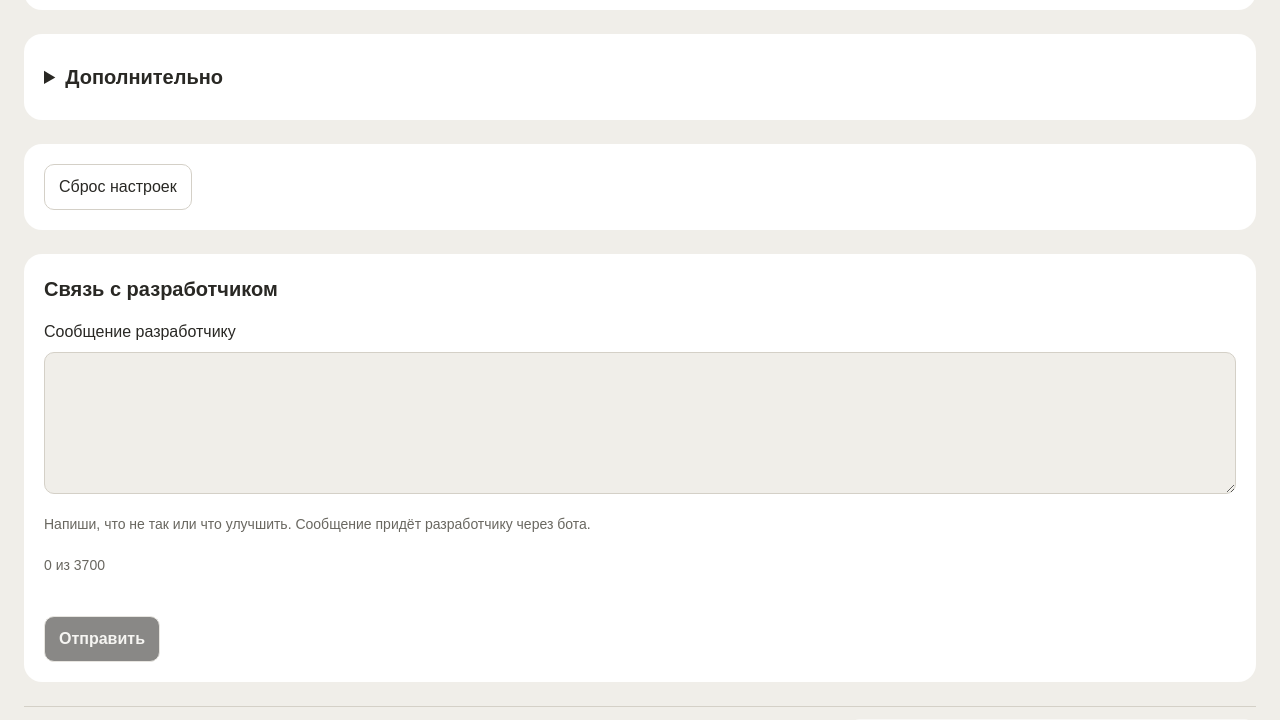
the message to the developer in settings › keeps the text on a lost reply and confirms it on retry without a second message
(page scrolled)
Type "Das Wort ist falsch geschrieben" into the text box labelled "Сообщение разработчику" at (640, 423), box [44, 352, 1236, 494]
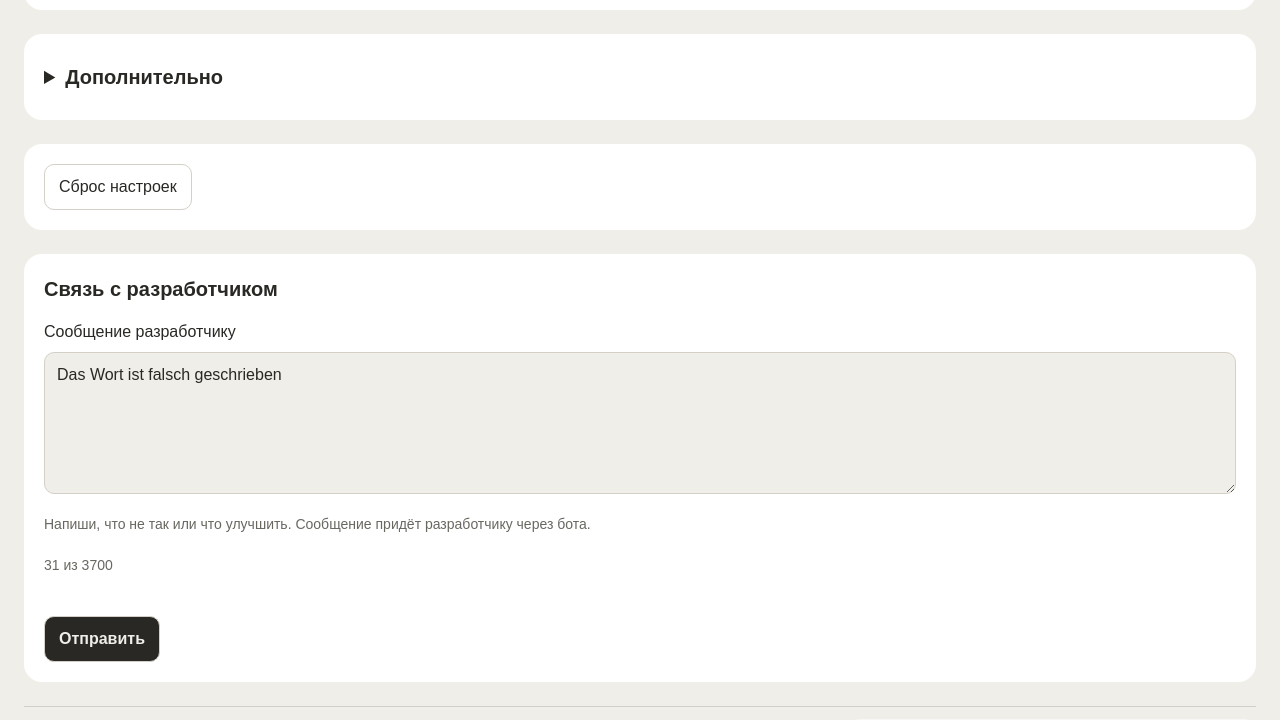
Click the button "Отправить" at (102, 639), box [44, 616, 160, 662]
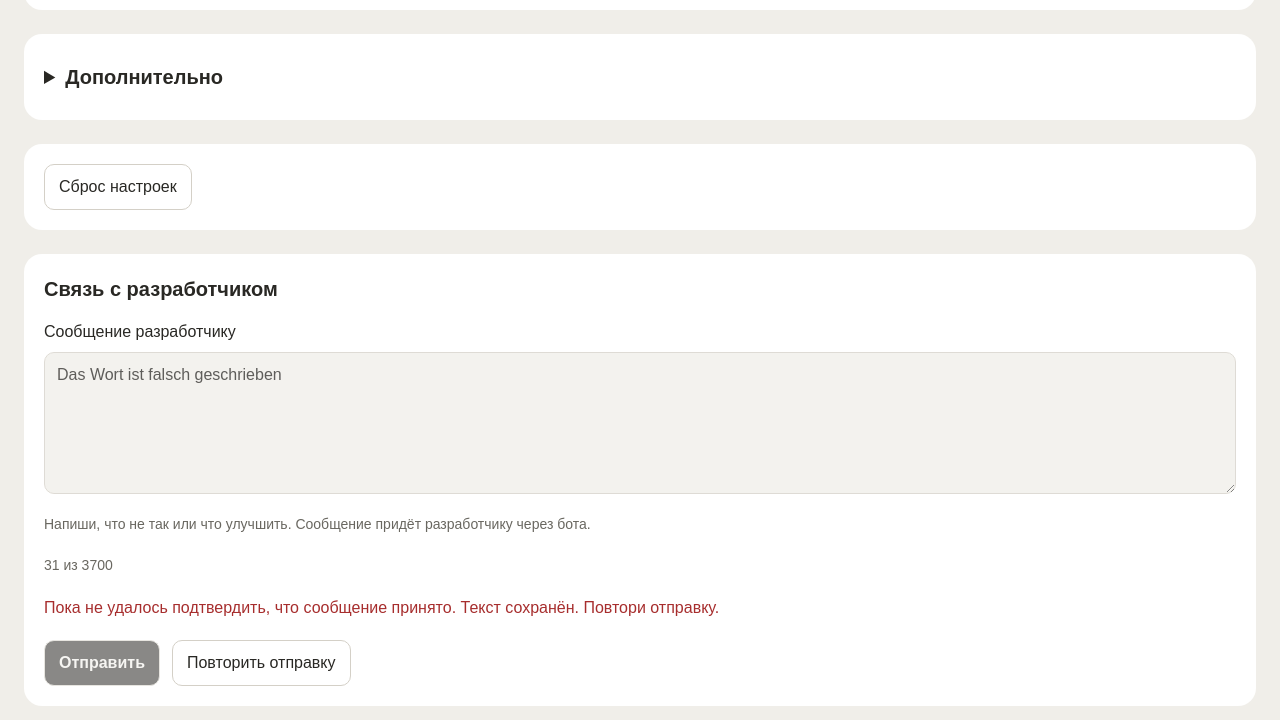
Expected: the text "Сообщение принято. Спасибо." is not shown
Now the text "Пока не удалось подтвердить, что сообщение принято. Текст сохранён. Повтори отправку." is shown, box [44, 599, 719, 616]
Click the button "Повторить отправку" at (261, 663), box [172, 640, 351, 686]
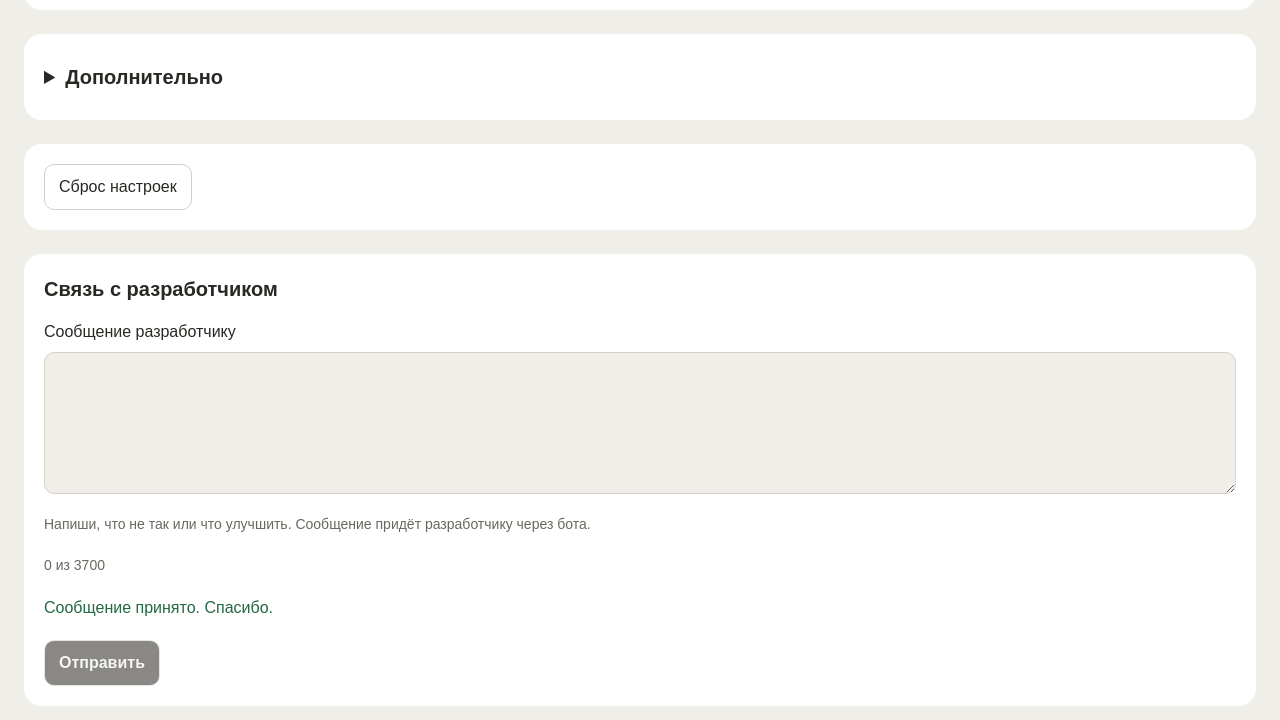
Now the text "Сообщение принято. Спасибо." is shown, box [44, 599, 273, 616]
Now the text box labelled "Сообщение разработчику" is empty, box [44, 352, 1236, 494]
